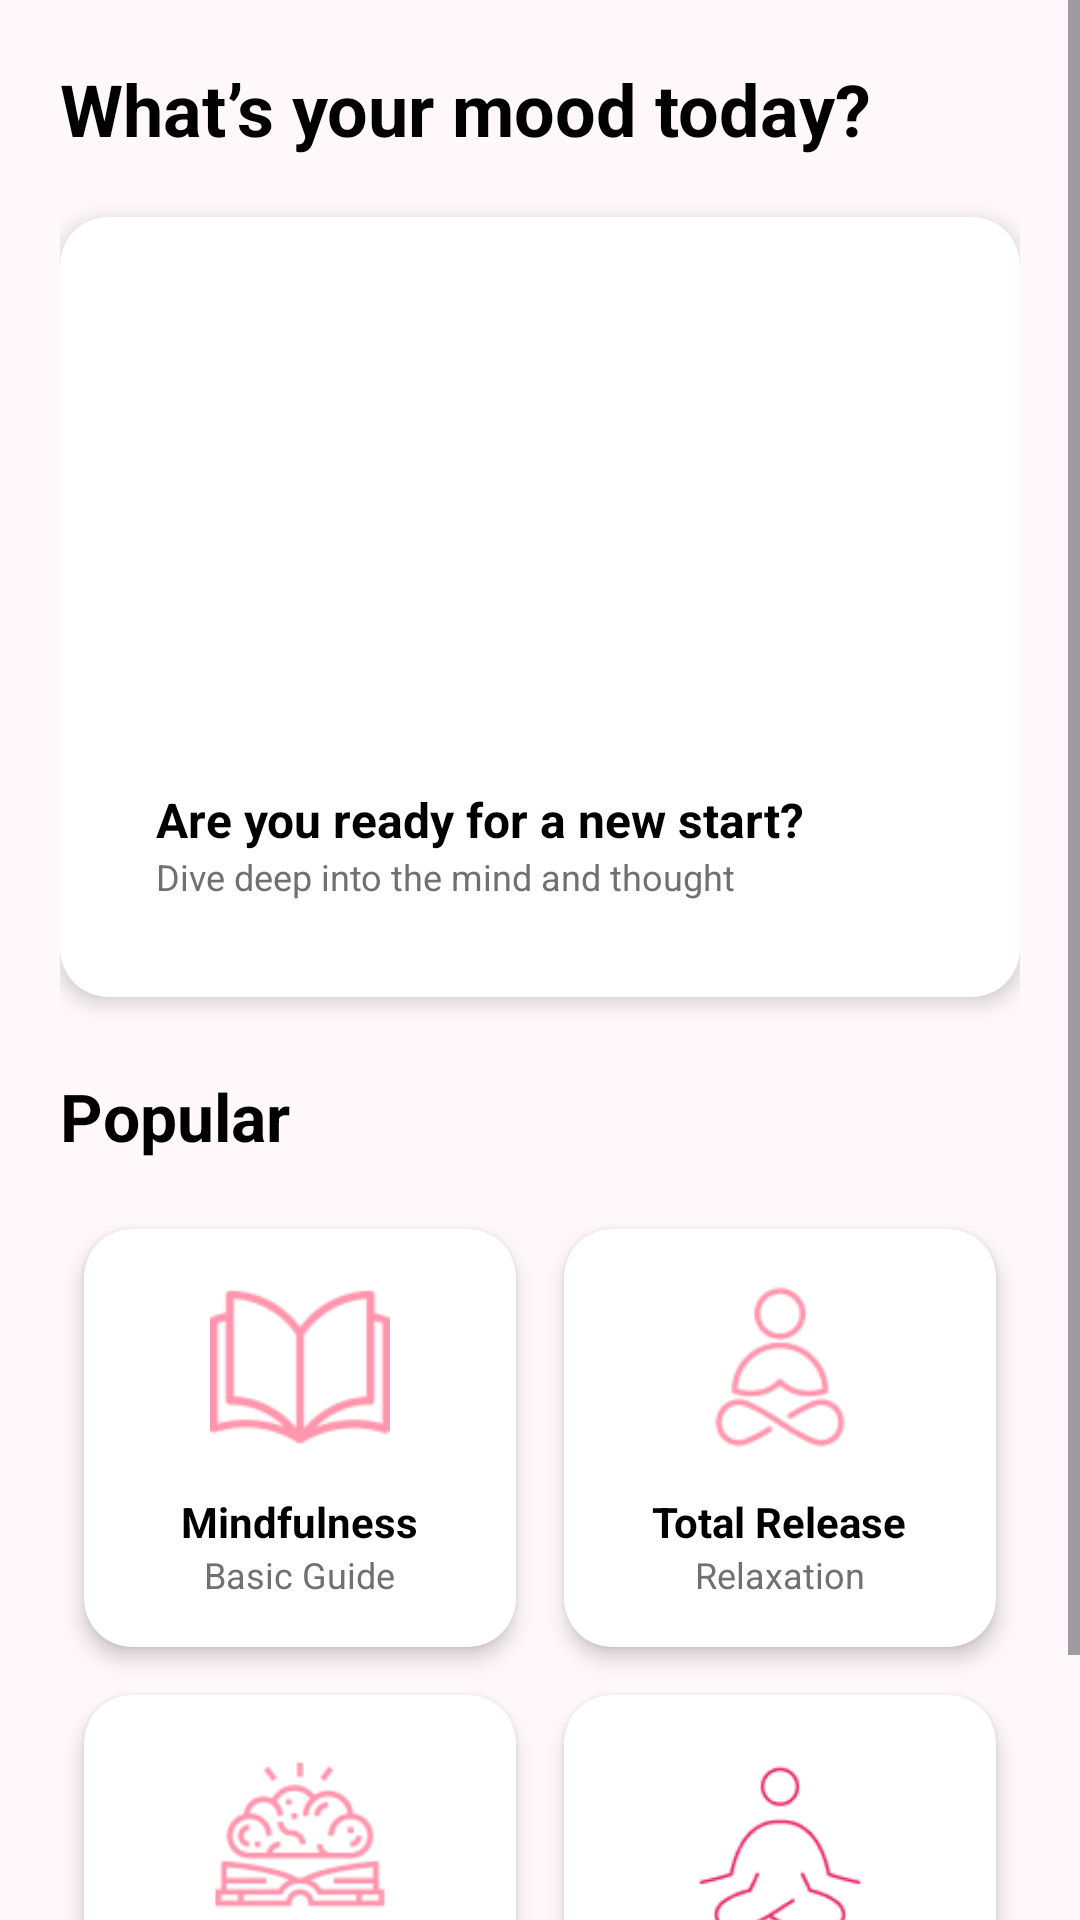

Named icons in this screenshot (1080px x 1920px) and their bounding boxes, (x1, y1, x2, y2):
book: (210, 1290, 390, 1444)
focus: (215, 1762, 385, 1907)
